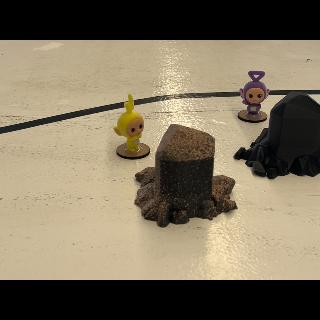teletubby: (113, 94, 144, 152), (239, 70, 270, 116)
